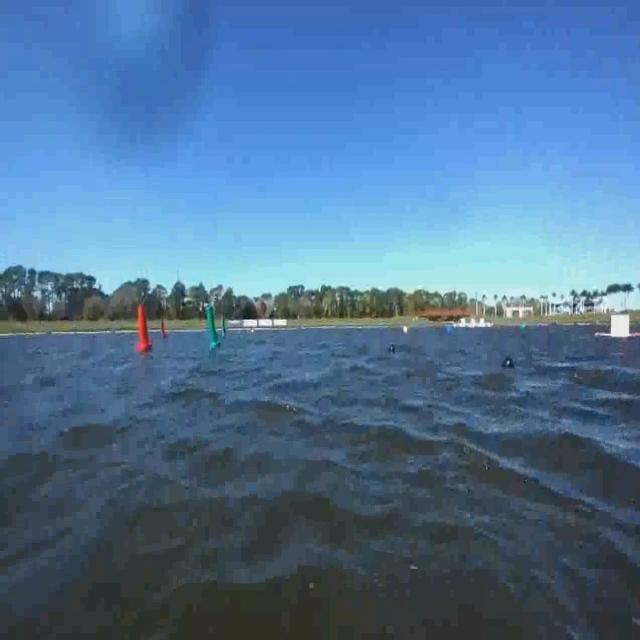green-column-buoy: (206, 307, 221, 351)
red-column-buoy: (135, 304, 152, 352)
